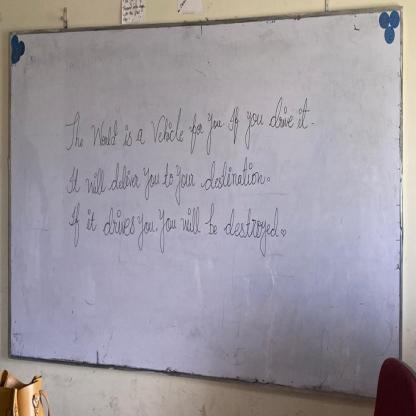Handwritten text: (63, 93, 314, 158), (67, 201, 282, 265), (65, 153, 267, 204)
Whiteboard: (9, 4, 403, 401)
